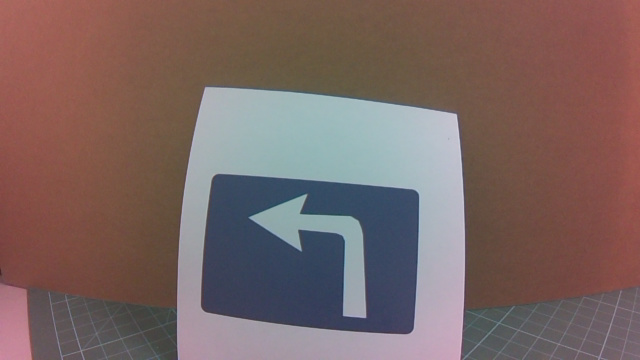left: (211, 168, 430, 339)
